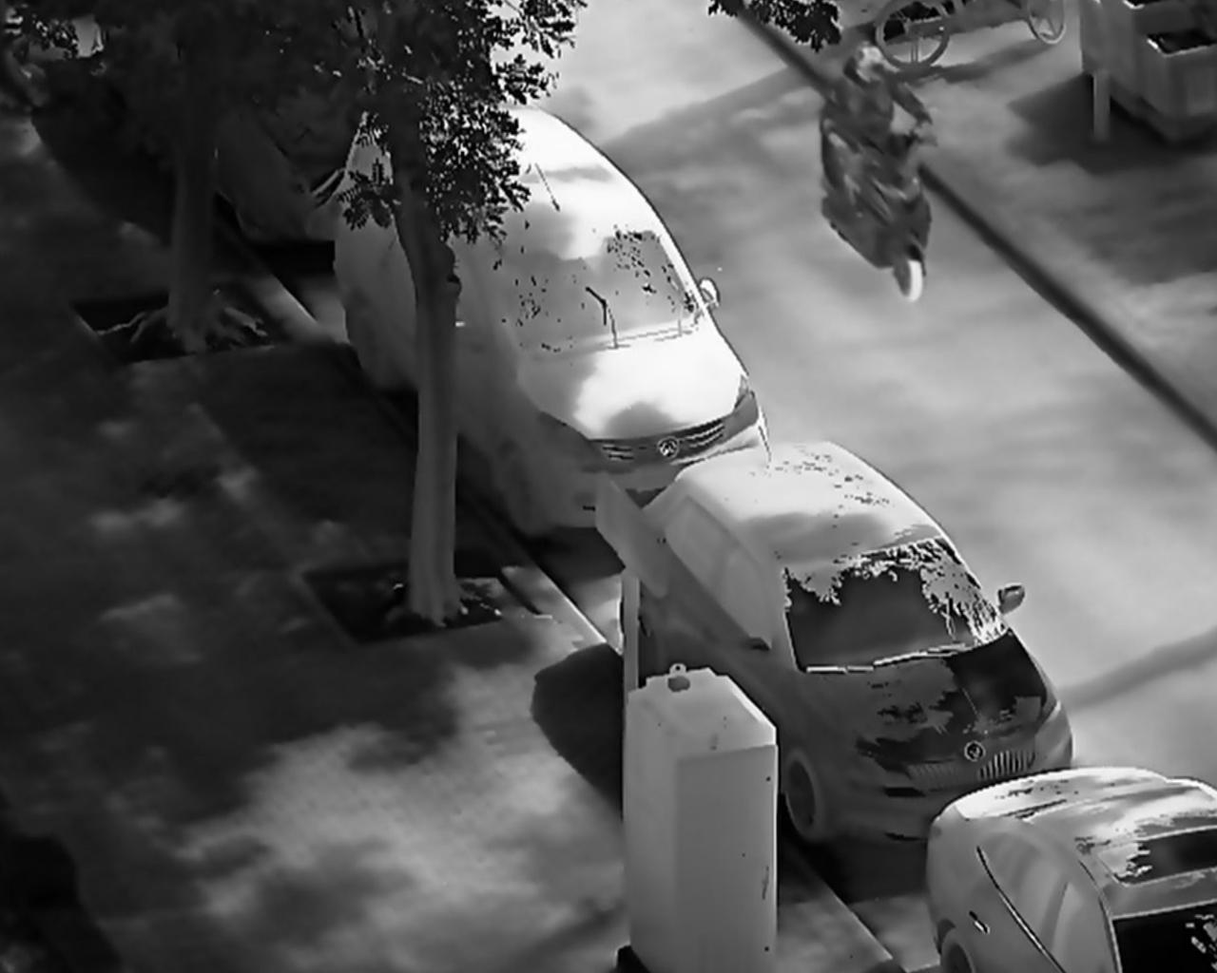person: (817, 42, 936, 226)
